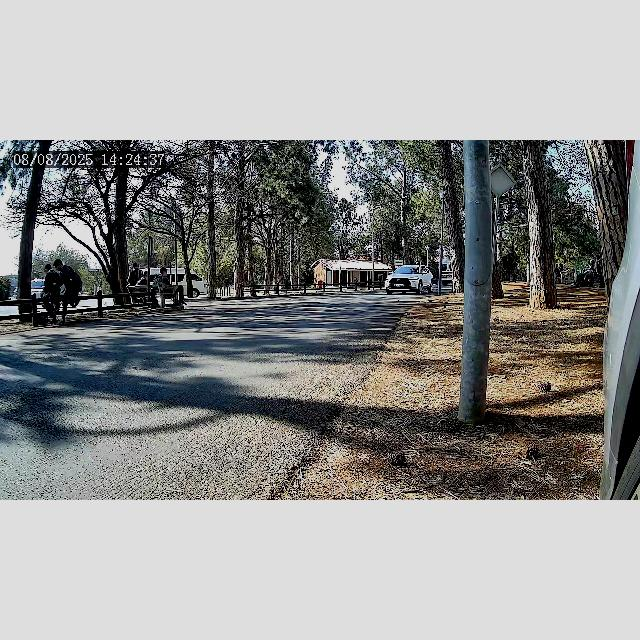car: (385, 265, 433, 295)
